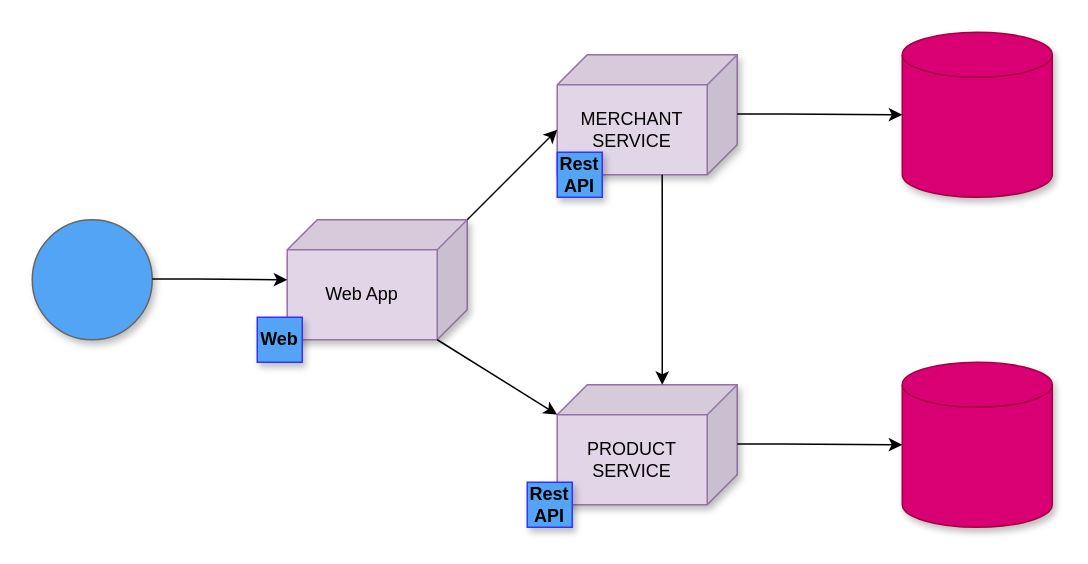
Image size: 1088x564. Some labels were removed from this diagram. The centre of each missing label's shape, as x and y in pixels:
Browser: point (93, 281)
MERCHANT ACCOUNT DATABASE: point (978, 116)
PRODUCTS DATABASE: point (978, 446)
